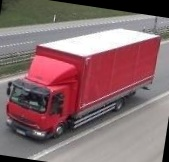truck: (0, 11, 161, 157)
